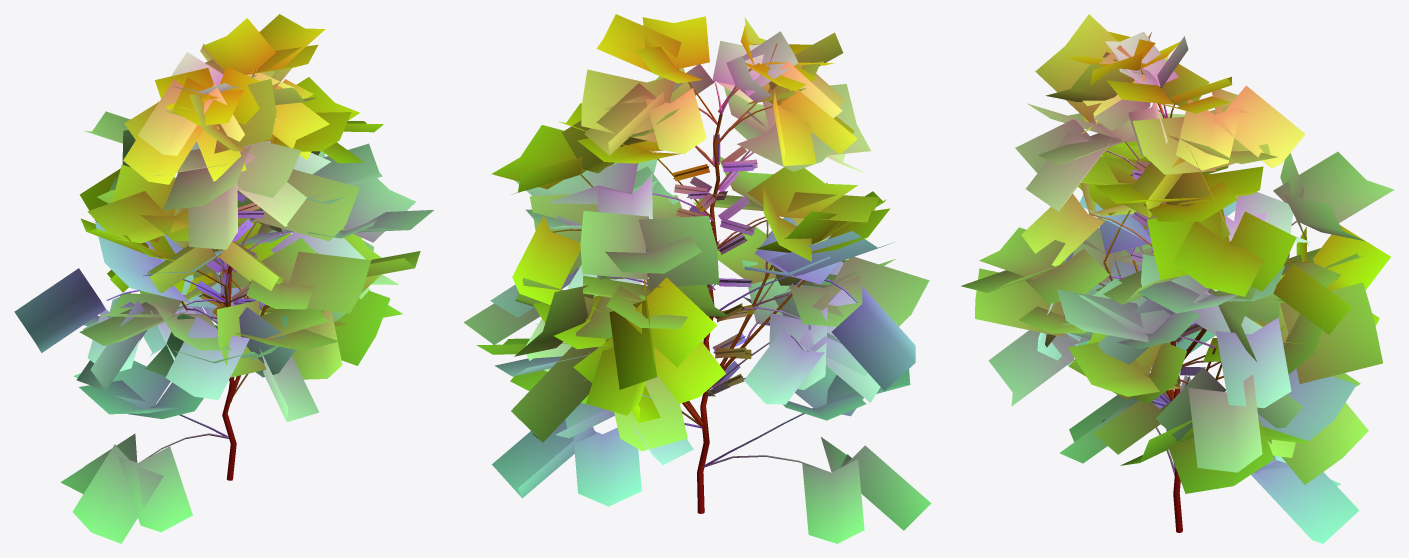
The model's file is Soybean.fbx.
3 views of the same model, side by side, from view 1: azimuth 30°, elevation 25°; view 2: azimuth 150°, elevation 25°; view 3: azimuth 270°, elevation 25° (orthographic). The views are drawn at different scales.
Parts seen in each view (by area): view 1: Soybean, SoybeanDead; view 2: SoybeanDead, Soybean; view 3: Soybean, SoybeanDead.
Boxes of the visible parts, x1=… form: Soybean: x1=73, y1=14, x2=433, y2=480; SoybeanDead: x1=14, y1=44, x2=398, y2=543; SoybeanDead: x1=464, y1=43, x2=931, y2=543; Soybean: x1=476, y1=14, x2=929, y2=513; Soybean: x1=961, y1=14, x2=1394, y2=532; SoybeanDead: x1=988, y1=32, x2=1390, y2=543.
Size of the model in its own units: 0.7166 by 0.7665 by 0.636.
